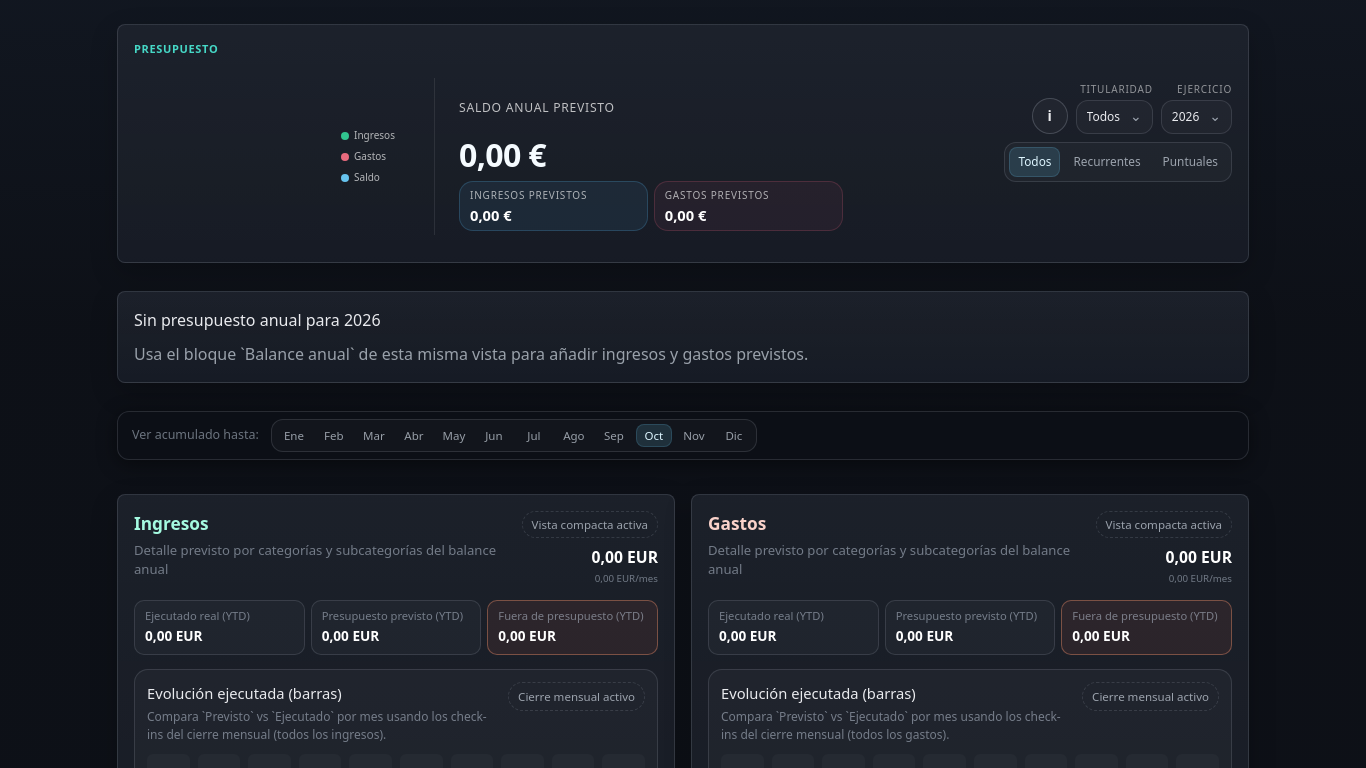
Test case: BudgetDashboardView › opens budget suggestions inside a modal when user asks for them
The image size is (1366, 768).
Check: the text "Sugerencias desde histórico del libro contable" is not shown
Check: the text "Sin cobertura del libro contable por subcategoría para sugerir ajustes todavía." is not shown
Click the button "i" at [1050, 116], box [1032,98,1068,134]
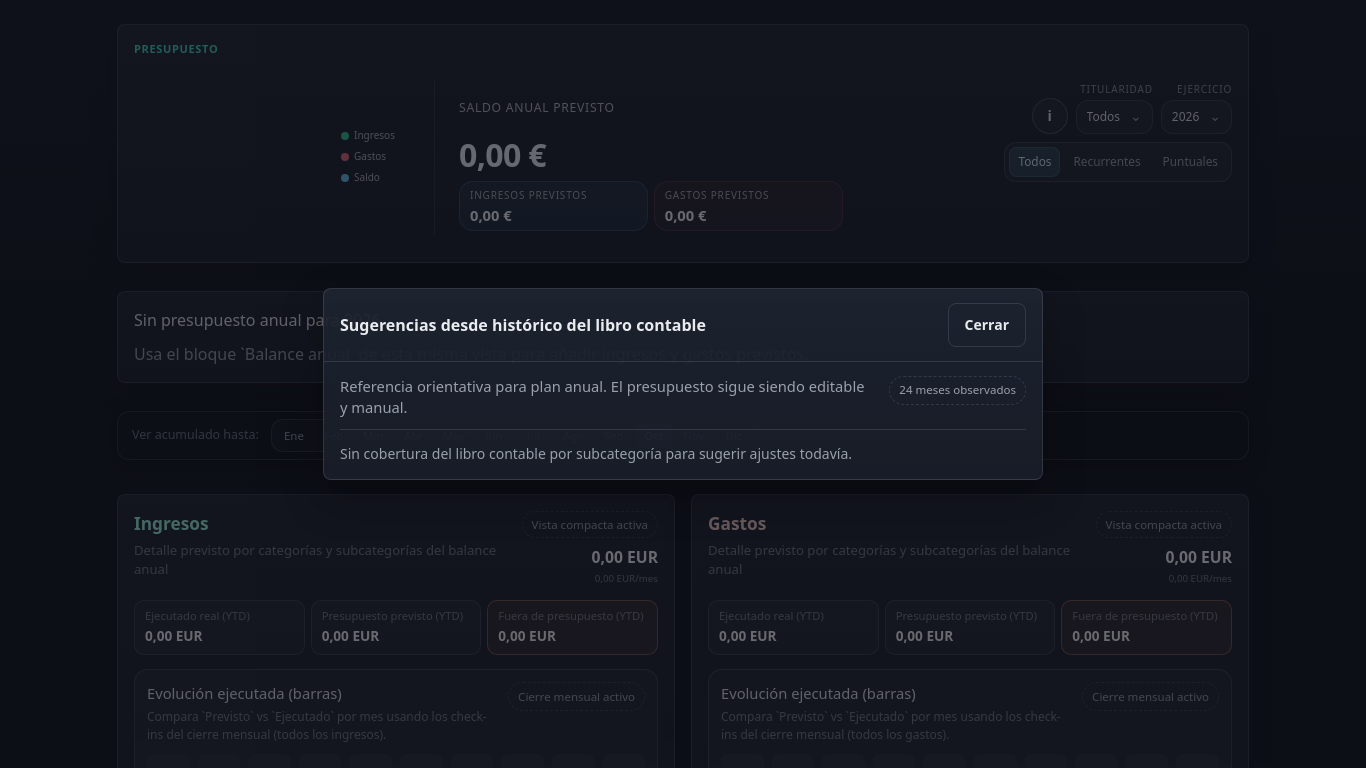
Check: the text "Sugerencias desde histórico del libro contable" is shown, box [340,314,706,337]
Check: the text "Cerrar" is shown, box [948,303,1026,347]
Check: the text "Sin cobertura del libro contable por subcategoría" is shown, box [340,444,852,463]
